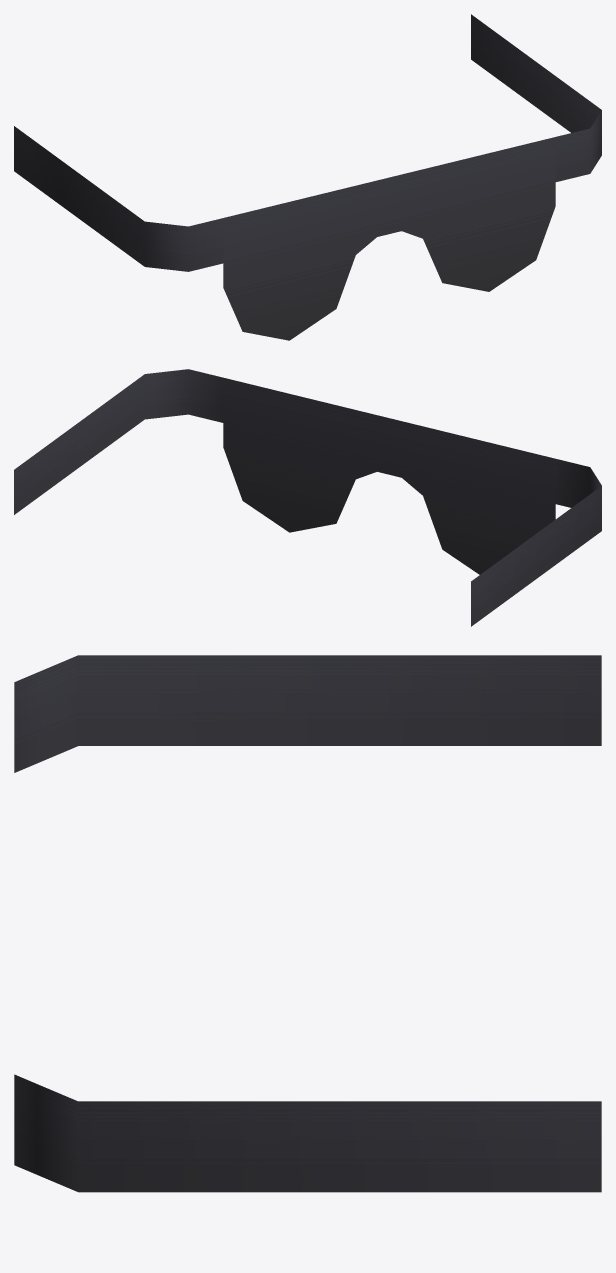
File: aid-sunglasses.glb
3 renders of one model, top to bottom at view 1: azimuth 30°, elevation 25°; view 2: azimuth 150°, elevation 25°; view 3: azimuth 270°, elevation 25°, orthographic. The views are drawn at different scales.
Parts seen in each view (by area): view 1: aid-sunglasses; view 2: aid-sunglasses; view 3: aid-sunglasses.
Boxes of the visible parts, bbox=[...] form: aid-sunglasses: bbox=[14, 14, 601, 340]; aid-sunglasses: bbox=[14, 369, 601, 626]; aid-sunglasses: bbox=[14, 655, 601, 1192].
Size of the model in its own units: 0.33 by 0.0958 by 0.1836.
1 material, 1 textured.
